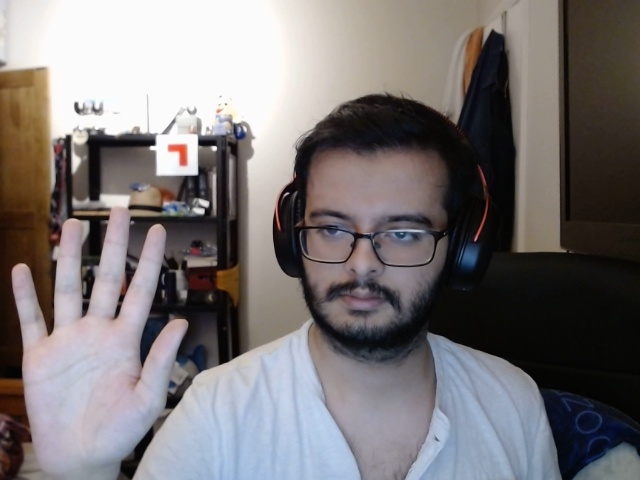Hello: (4, 201, 203, 476)
